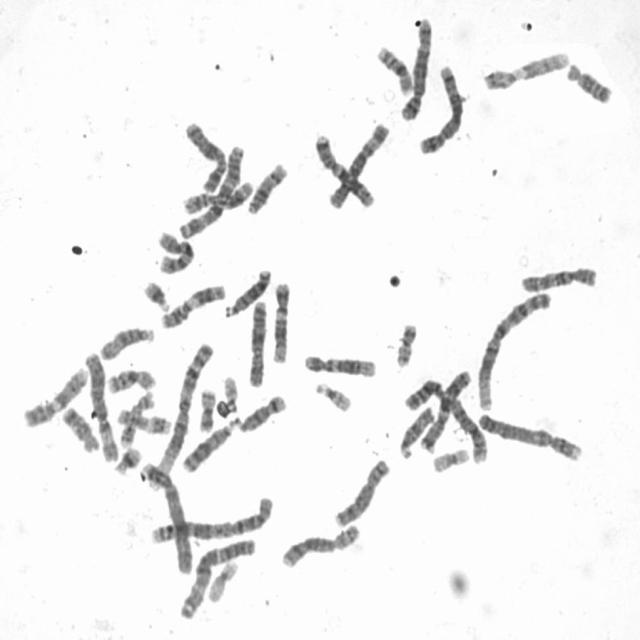A1: (143, 334, 216, 493), (472, 285, 554, 412)
A2: (400, 371, 490, 466), (146, 489, 276, 546)
A3: (174, 532, 258, 621), (175, 137, 248, 239)
B4: (138, 454, 195, 576), (474, 406, 586, 464)
B5: (414, 58, 466, 156), (396, 10, 434, 122)
C10: (516, 260, 600, 294), (152, 225, 196, 275)
C11: (156, 277, 228, 330), (178, 174, 256, 215)
C12: (298, 348, 378, 378), (267, 276, 292, 365)
C6: (324, 116, 391, 210), (79, 345, 119, 464)
C7: (310, 126, 378, 210), (416, 363, 474, 455)
C8: (329, 453, 392, 529), (276, 517, 363, 569)
C9: (18, 360, 90, 428), (478, 44, 571, 92)
D13: (177, 415, 236, 474), (220, 262, 273, 319)
D14: (242, 156, 290, 216), (232, 388, 288, 434)
D15: (95, 320, 157, 362), (395, 400, 438, 460)
E16: (372, 39, 415, 95), (102, 362, 158, 395)
E17: (115, 386, 157, 448), (113, 402, 174, 436)
E18: (562, 56, 614, 105), (58, 399, 102, 454)
F19: (202, 553, 241, 604), (428, 442, 471, 474)
F20: (390, 316, 420, 368), (195, 382, 218, 434)
G21: (138, 274, 172, 314), (110, 441, 144, 475)
G22: (310, 376, 354, 414), (217, 369, 240, 415)
X: (180, 115, 229, 192), (243, 294, 269, 388)
